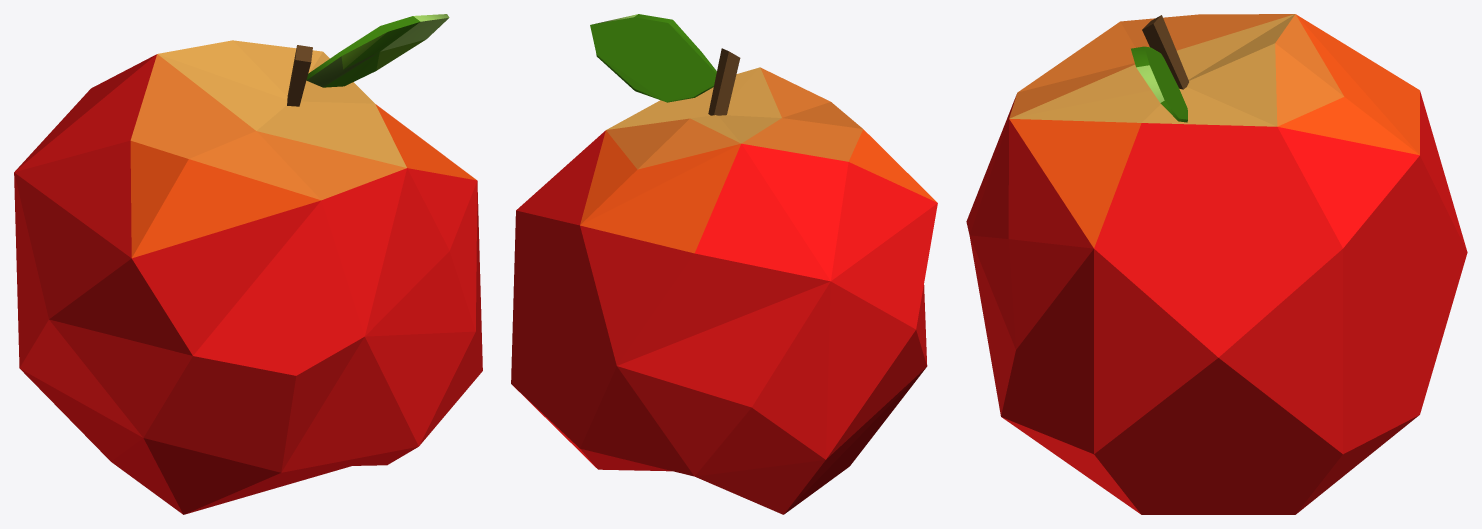
File: apple.FBX
3 views of the same model, side by side, from view 1: azimuth 30°, elevation 25°; view 2: azimuth 150°, elevation 25°; view 3: azimuth 270°, elevation 25° (orthographic). The views are drawn at different scales.
Parts seen in each view (by area): view 1: Hedra001, Cylinder001, Box001; view 2: Hedra001, Cylinder001, Box001; view 3: Hedra001, Cylinder001, Box001.
Part boxes in pixels (x1,y1,x2,y2): Hedra001: [14, 40, 482, 514]; Cylinder001: [306, 14, 449, 87]; Box001: [287, 45, 312, 106]; Hedra001: [511, 67, 937, 514]; Cylinder001: [590, 14, 716, 102]; Box001: [708, 48, 740, 115]; Hedra001: [966, 14, 1467, 514]; Cylinder001: [1131, 46, 1187, 122]; Box001: [1142, 15, 1188, 89].
Bounding box in the file's own units: 70.6 × 73.24 × 70.72.
